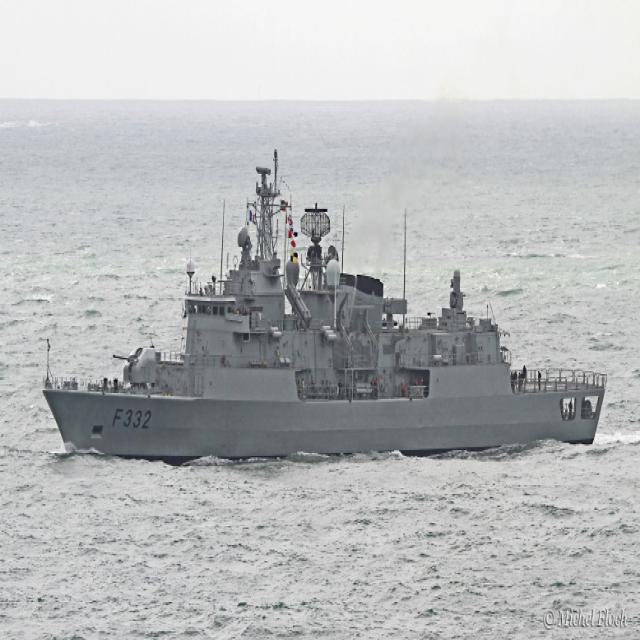Fragata: (41, 159, 613, 466)
